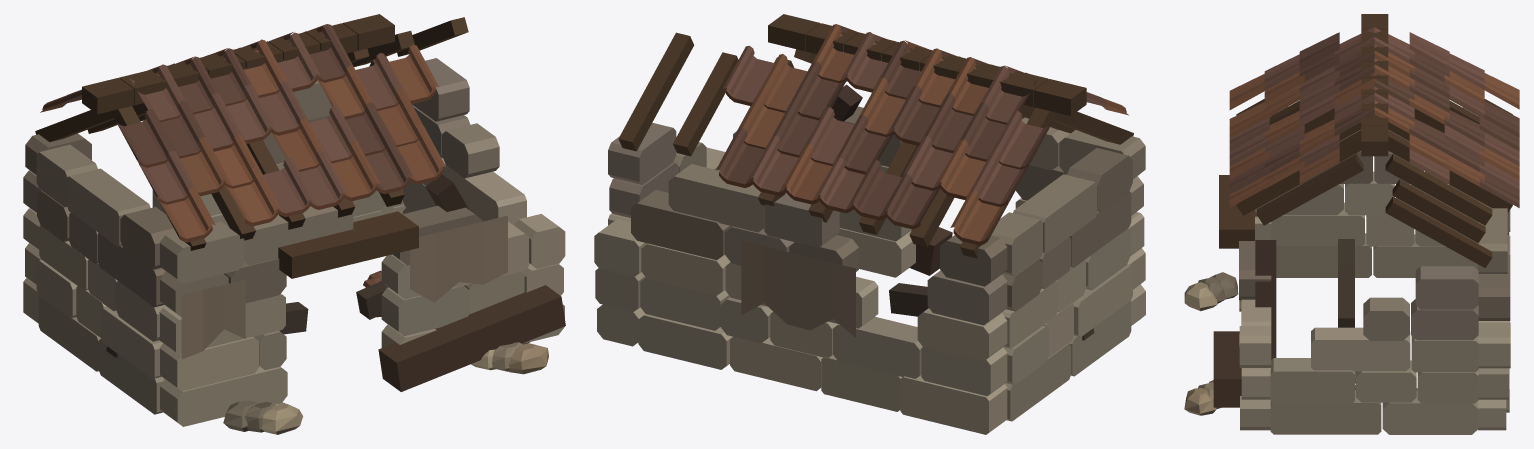
File: ruin.glb
The picture shows the model from 3 angles, left to right: view 1: azimuth 30°, elevation 25°; view 2: azimuth 150°, elevation 25°; view 3: azimuth 270°, elevation 25°; orthographic projection. The views are drawn at different scales.
Visible parts, largest first — view 1: ruin; view 2: ruin; view 3: ruin.
Part boxes in pixels (x1,y1,x2,y2): ruin: (23, 14, 565, 434); ruin: (594, 14, 1145, 434); ruin: (1184, 14, 1519, 434).
Size of the model in its own units: 1.02 by 0.7344 by 0.8327.
